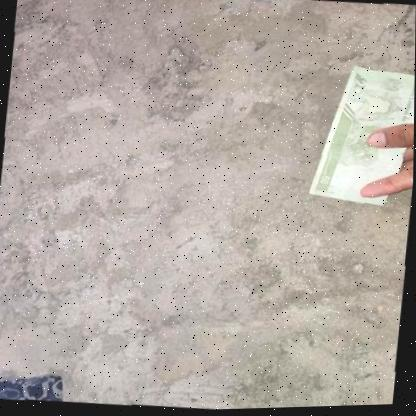fifty-back-vef: (306, 62, 415, 212)
